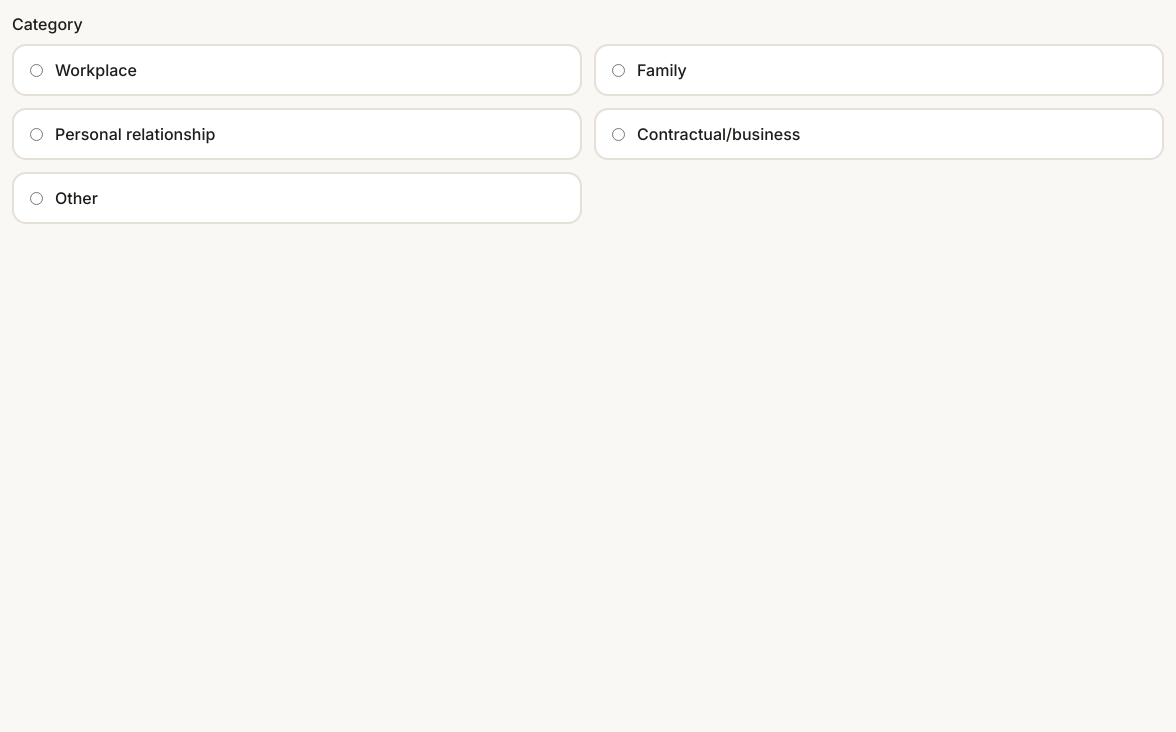
it: AC1: Radio card category selection › selecting a category reveals the Main Topic step
The image size is (1176, 732).
Expected: the field labelled "Main Topic" is not shown
Click the radio button labelled "Workplace".
click(36, 70)  # box 30,64 -> 43,76
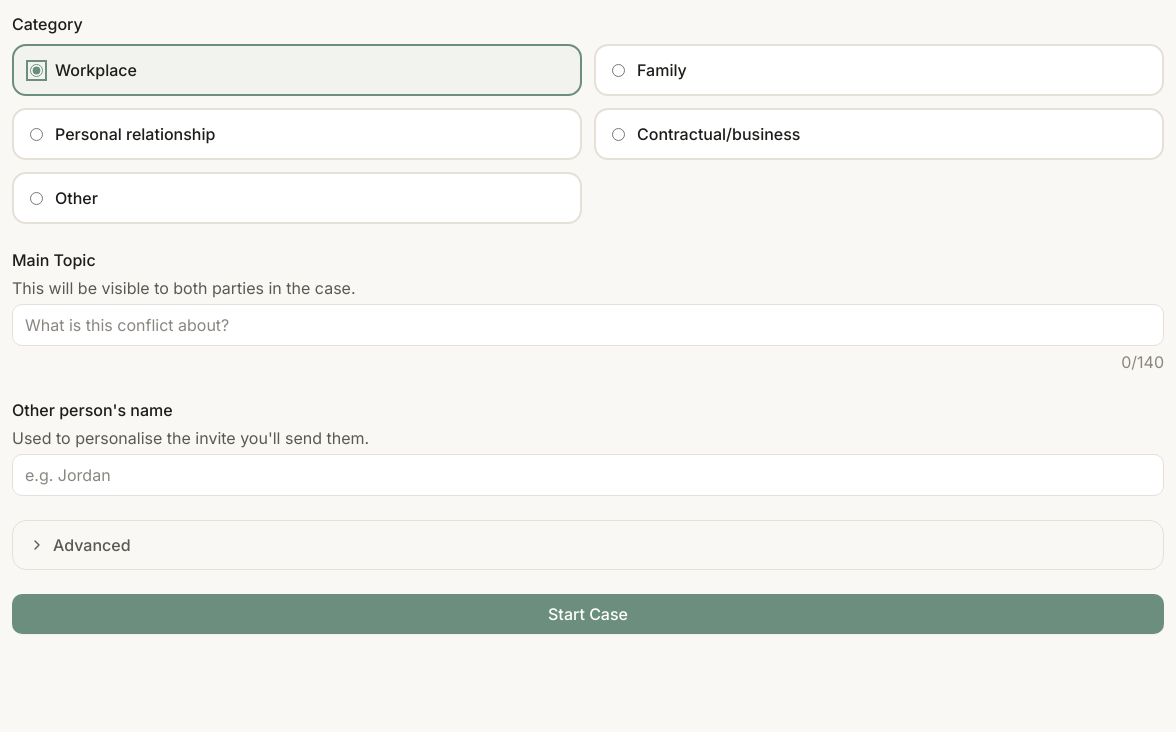
Result: the field labelled "Main Topic" is shown at 12,304 -> 1164,346
